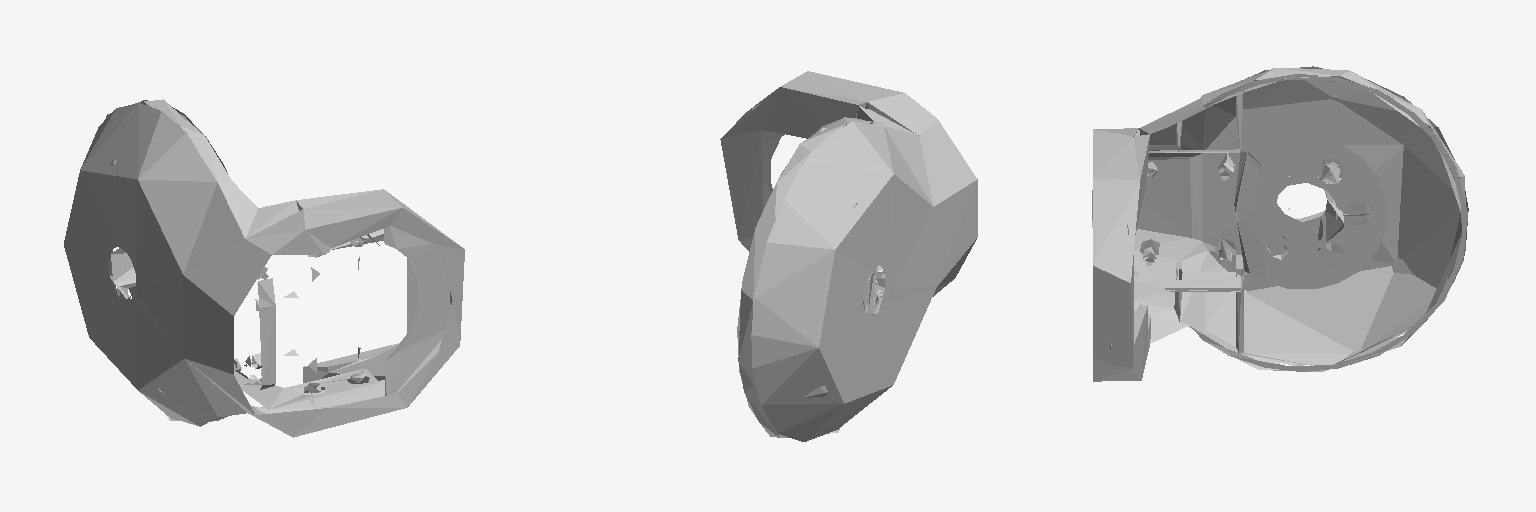
3 views of the same model, side by side, from view 1: azimuth 30°, elevation 25°; view 2: azimuth 150°, elevation 25°; view 3: azimuth 270°, elevation 25° (orthographic).
Parts seen in each view (by area): view 1: link2_2; view 2: link2_2; view 3: link2_2.
Part boxes in pixels (x1,y1,x2,y2): link2_2: (64, 99, 464, 437); link2_2: (720, 71, 977, 441); link2_2: (1092, 66, 1468, 381).
Size of the model in its own units: 83.67 by 99.34 by 112.